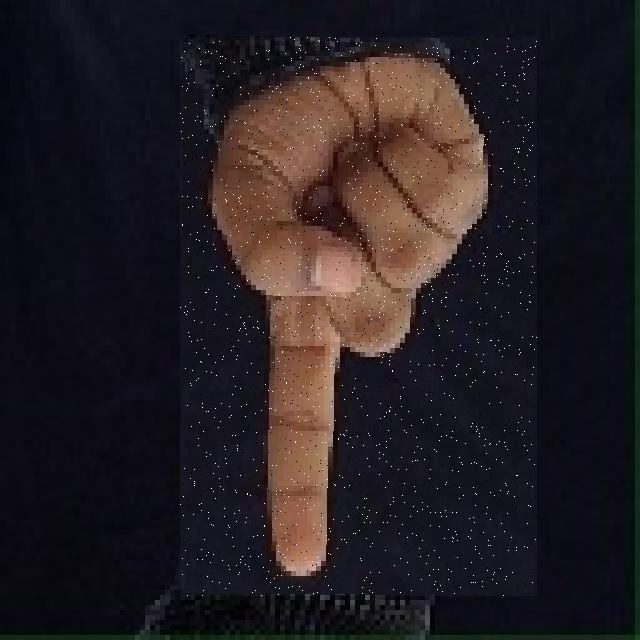IloveYou: (180, 37, 537, 596)
